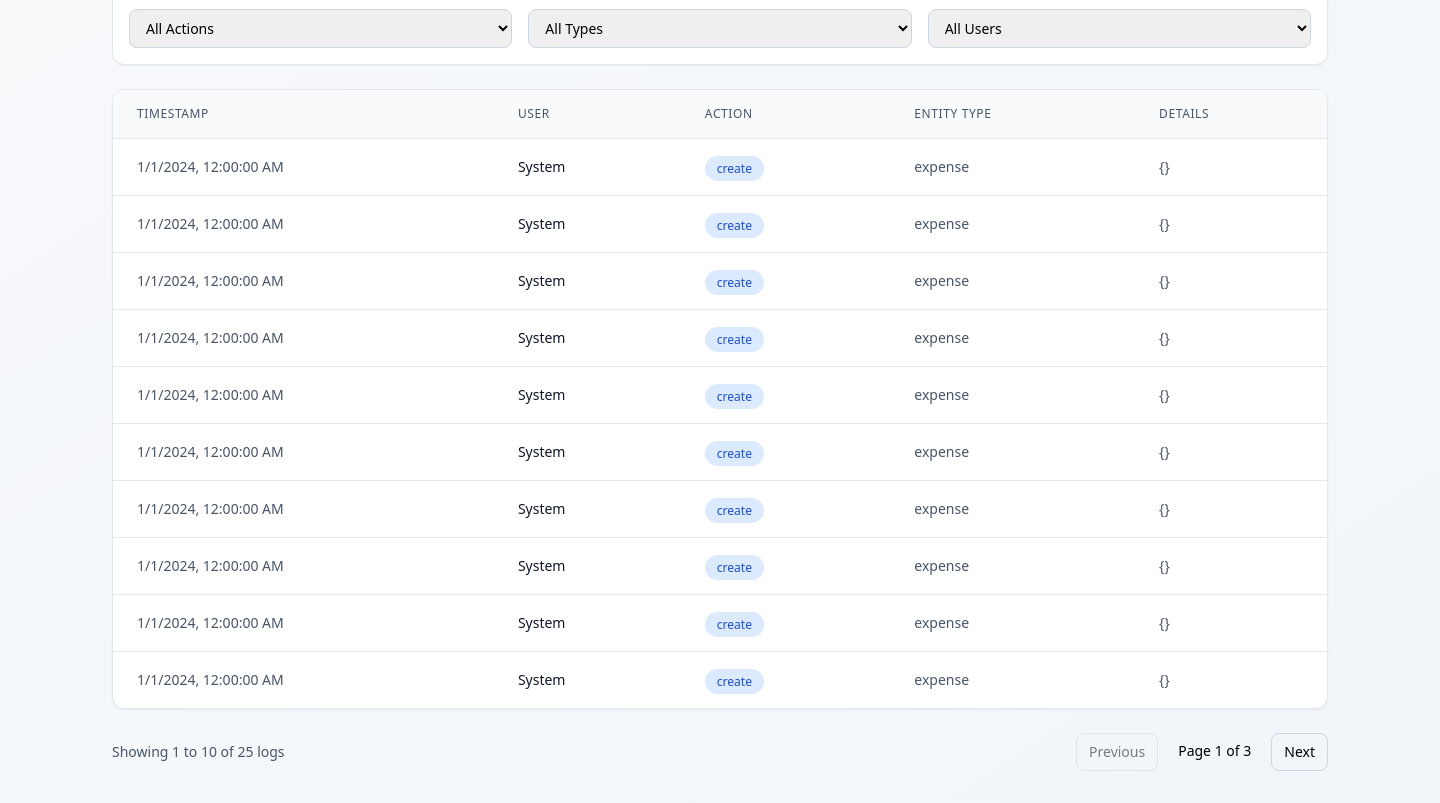
Scenario: AuditLogs › resets to page 1 when filters change
(page scrolled)
Navigate to page 2
Step 1. Click the button "Next" → (1300, 752), box [1271,733,1328,771]
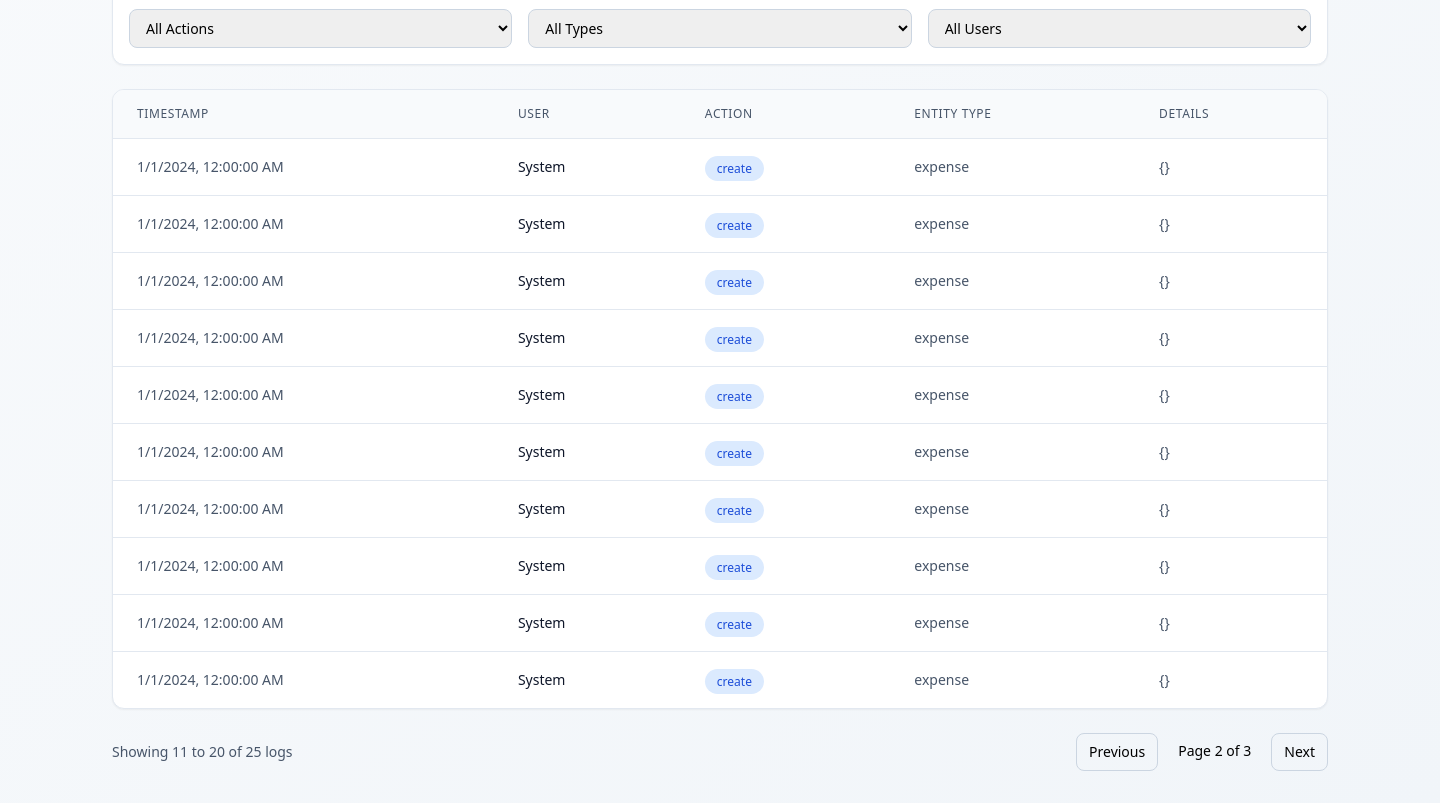
Check: the text "Page 2 of 3" is shown, box [1178,741,1251,760]
Change filter - should reset to page 1
Step 2. Select "Create" in the 1st dropdown showing "All Actions" → (321, 28), box [129,9,512,48]
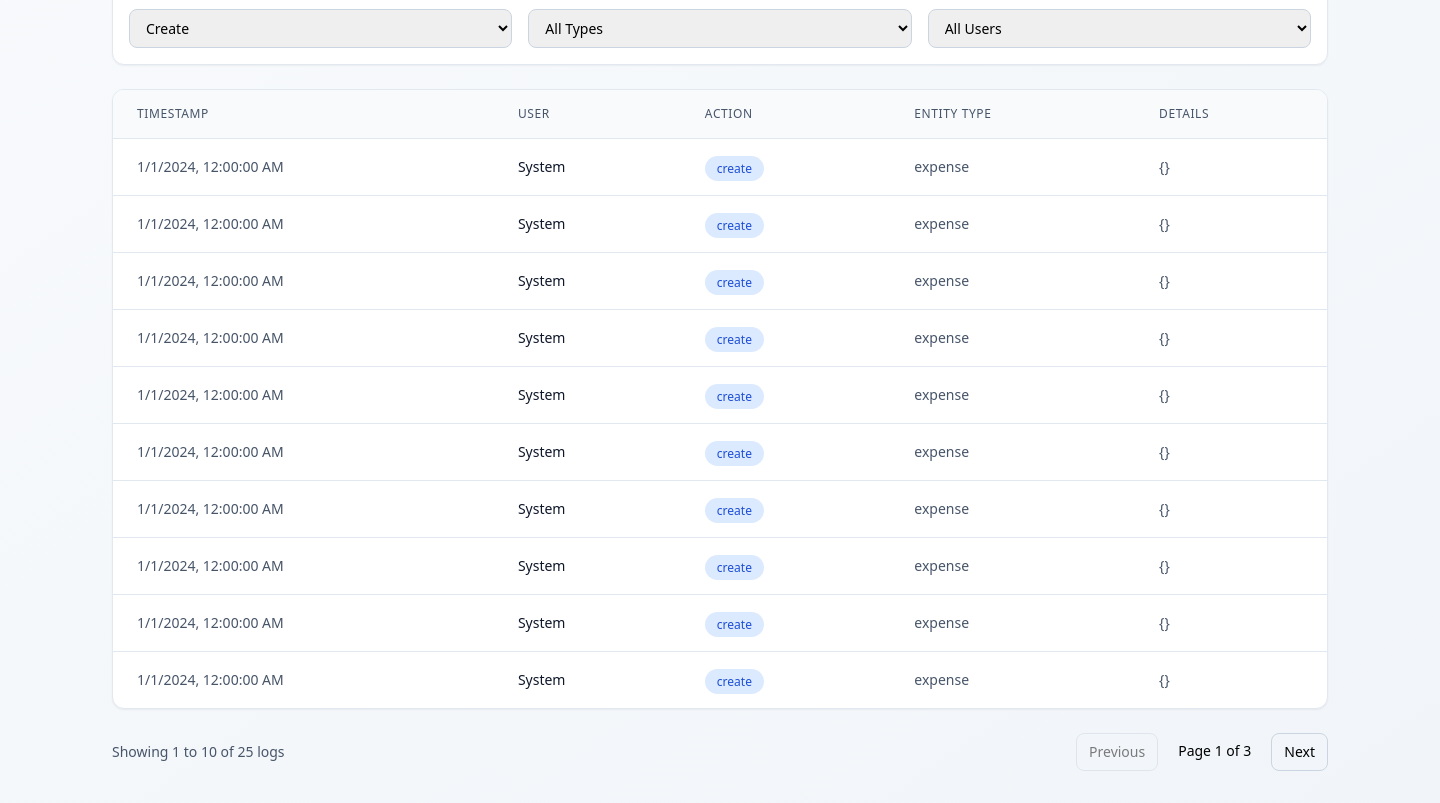
Check: the text "Page 1 of 3" is shown, box [1178,741,1251,760]
